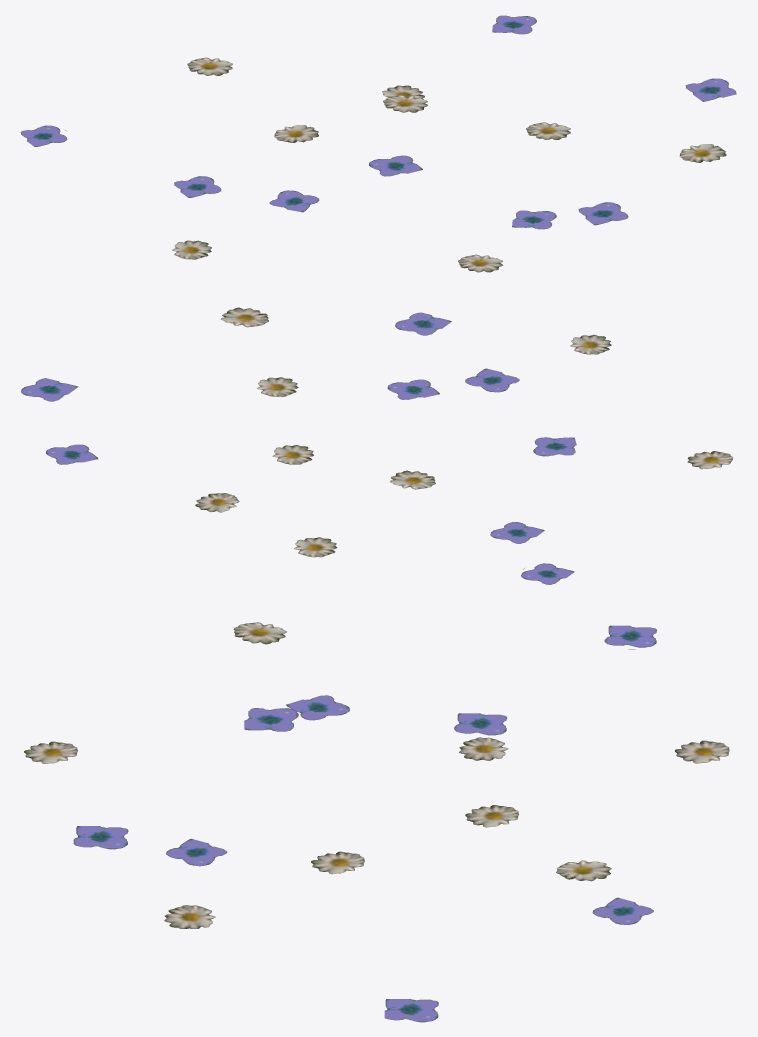
The model's file is huaban2.FBX.
3 renders of one model, top to bottom at view 1: azimuth 30°, elevation 25°; view 2: azimuth 150°, elevation 25°; view 3: azimuth 270°, elevation 25°, orthographic. The views are drawn at different scales.
Visible parts, largest first — view 1: SMDImport; view 2: SMDImport; view 3: SMDImport.
Part boxes in pixels (x1=…): SMDImport: x1=20, y1=15, x2=736, y2=272; SMDImport: x1=21, y1=307, x2=733, y2=584; SMDImport: x1=24, y1=622, x2=729, y2=1022.
Size of the model in its own units: 676 by 58.74 by 559.
